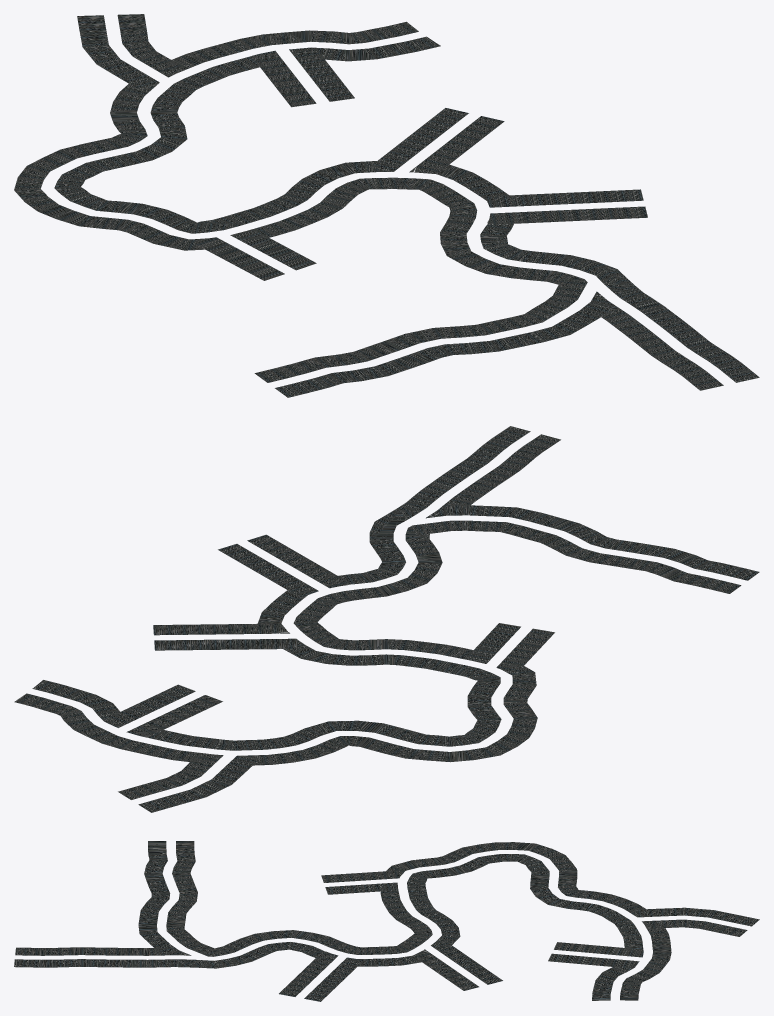
Rendered from Ground1Flat.glb.
The picture shows the model from 3 angles, top to bottom: view 1: azimuth 30°, elevation 25°; view 2: azimuth 150°, elevation 25°; view 3: azimuth 270°, elevation 25°; orthographic projection. The views are drawn at different scales.
Visible parts, largest first — view 1: CSGBakedMeshInstance3D; view 2: CSGBakedMeshInstance3D; view 3: CSGBakedMeshInstance3D.
Part boxes in pixels (x1,y1,x2,y2): CSGBakedMeshInstance3D: (14,14,759,397); CSGBakedMeshInstance3D: (14,426,759,812); CSGBakedMeshInstance3D: (14,841,759,1001).
Size of the model in its own units: 328 by 0.0394 by 643.
Materials: 1 (1 with a texture image).
